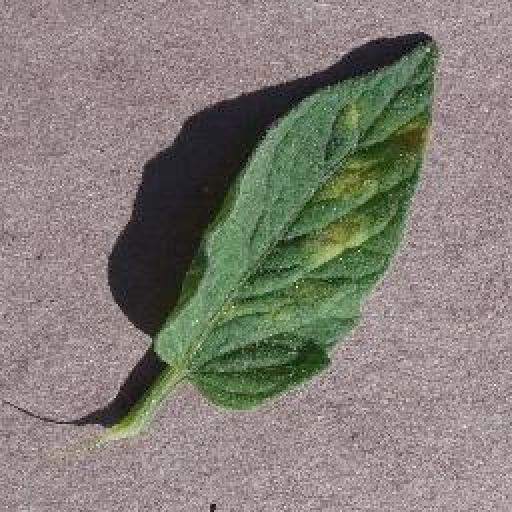disease_tomato: (152, 34, 440, 412)
